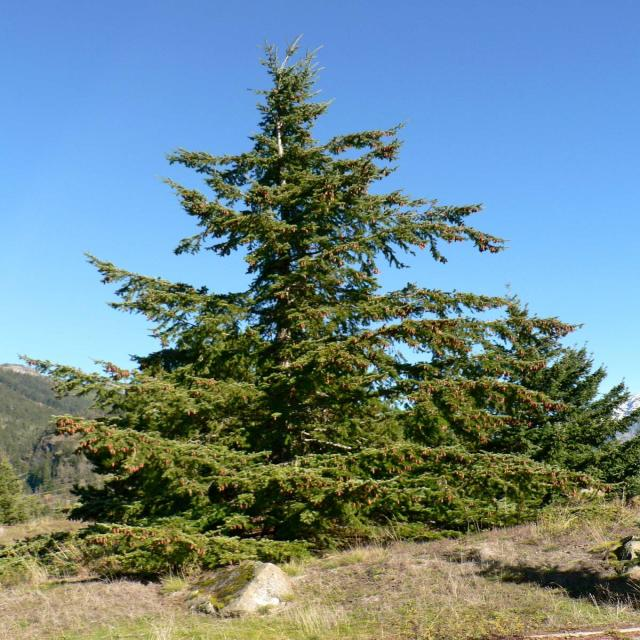Pseudotsuga menziesii: (48, 38, 597, 546)
